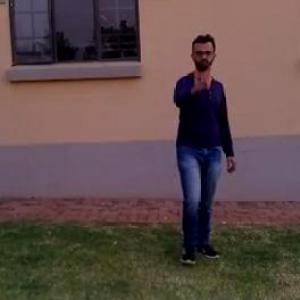takeoff-hand: (183, 64, 217, 100)
